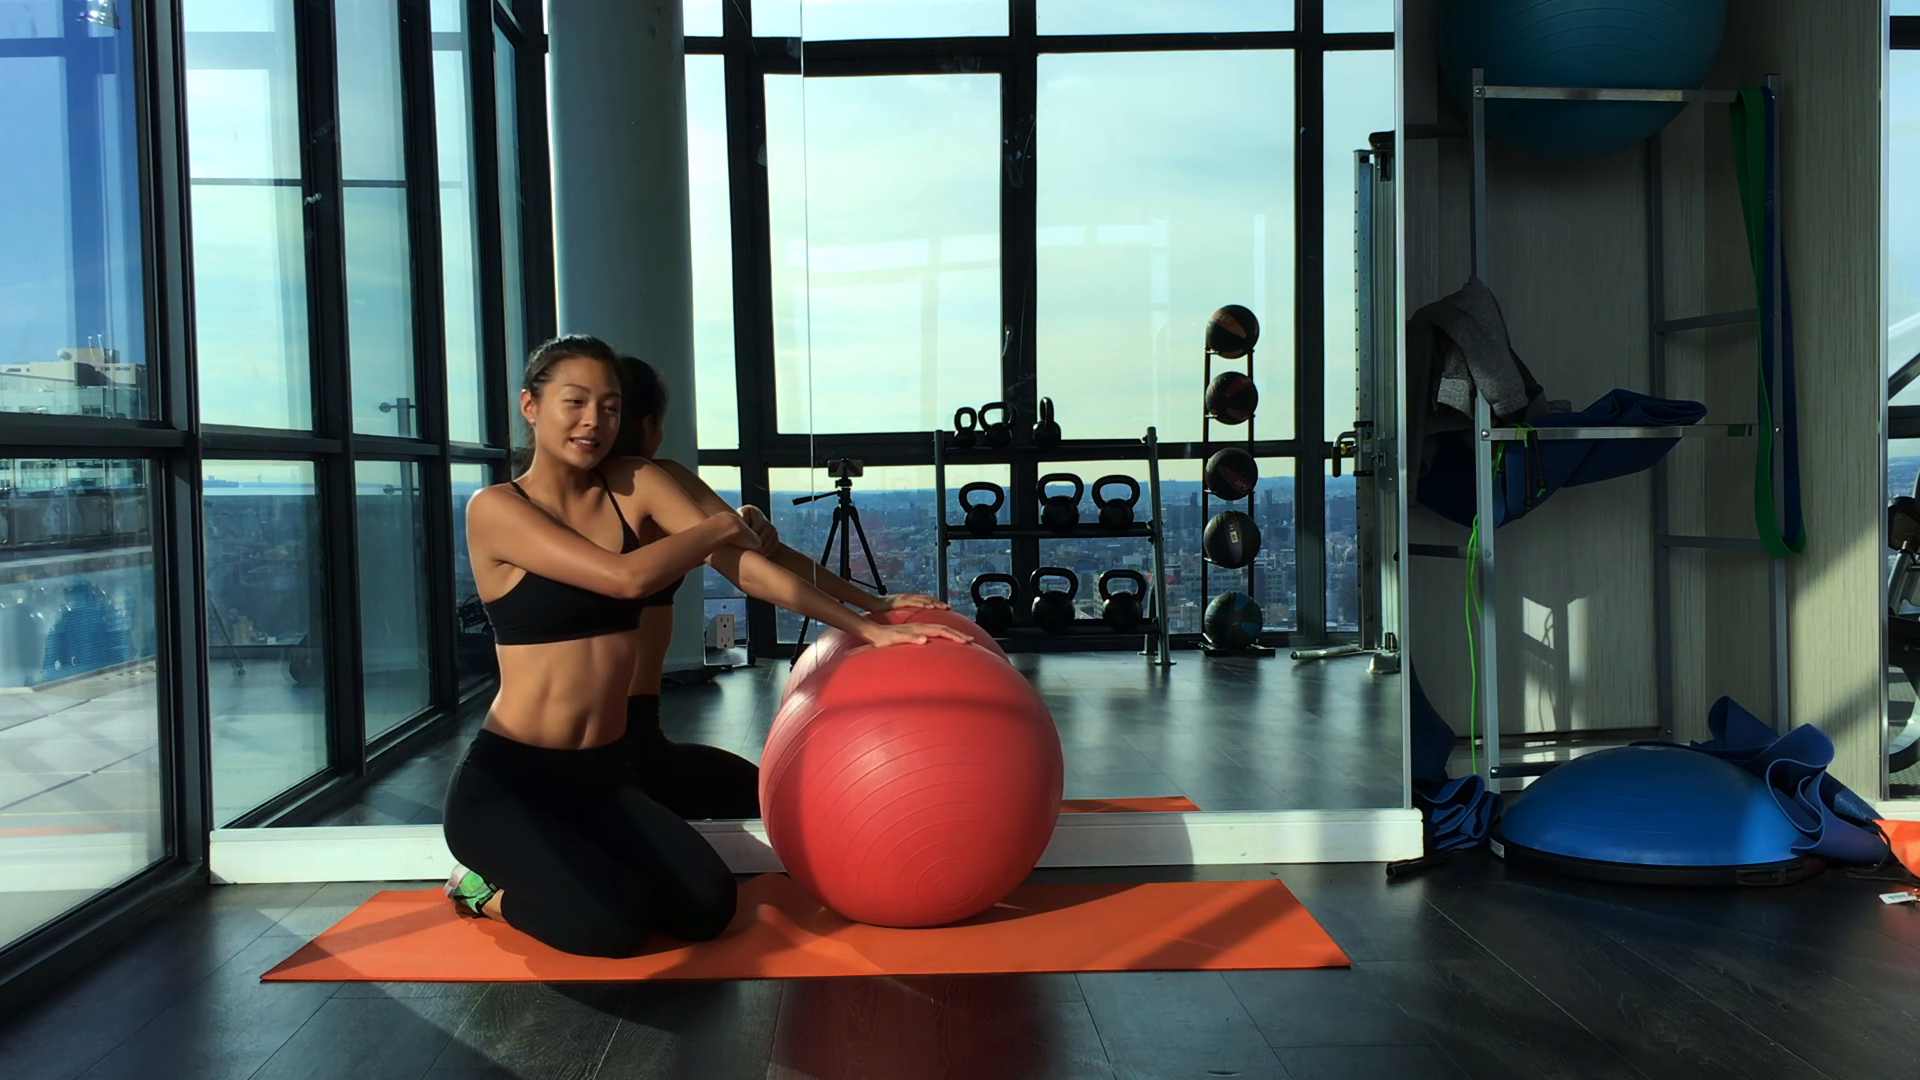yogaball: (757, 611, 1069, 930)
